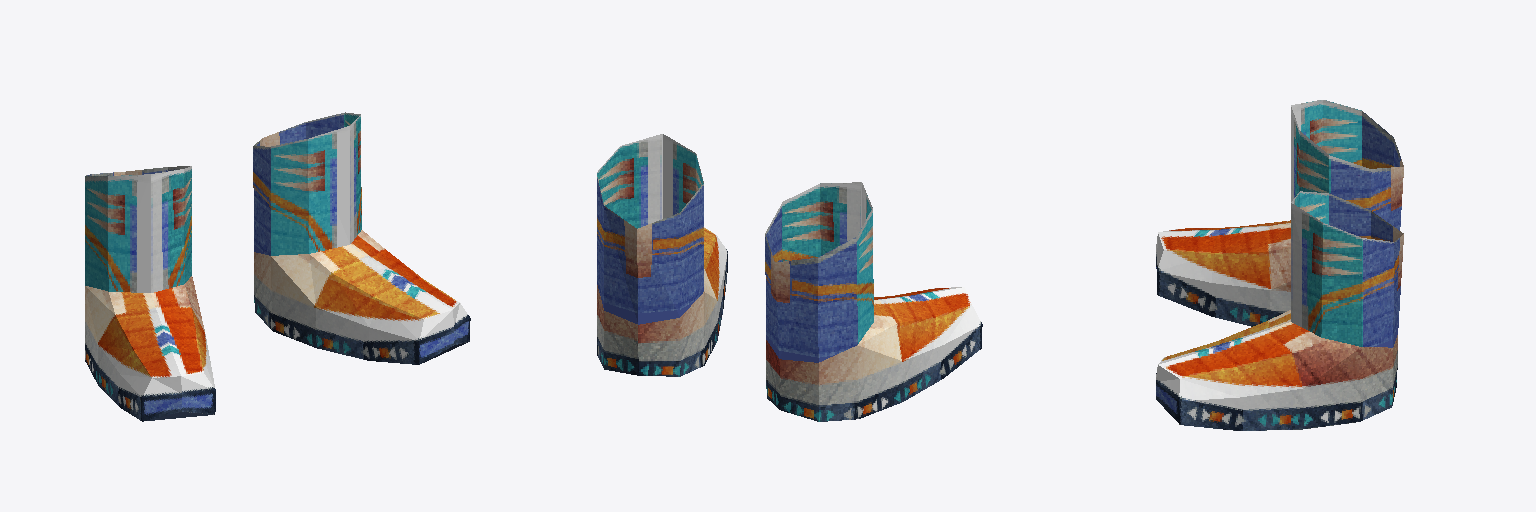
The picture shows the model from 3 angles: view 1: azimuth 30°, elevation 25°; view 2: azimuth 150°, elevation 25°; view 3: azimuth 270°, elevation 25°; orthographic projection.
Visible parts, largest first — view 1: cloth1:Mesh; view 2: cloth1:Mesh; view 3: cloth1:Mesh.
Boxes of the visible parts, box(x1,y1,x2,y2) form: cloth1:Mesh: box(85, 112, 470, 421); cloth1:Mesh: box(597, 134, 982, 421); cloth1:Mesh: box(1156, 100, 1403, 430).
Size of the model in its own units: 203 by 121 by 133.
1 materials, 1 textured.